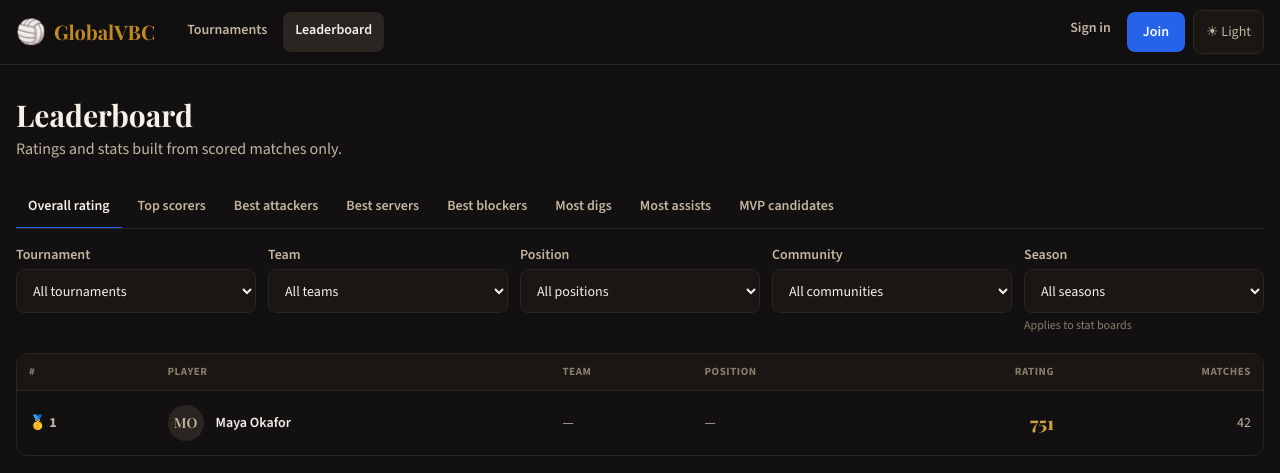
Test: Leaderboard › switches metric via tabs and shows secondary stat columns
Expected: the text "Maya Okafor" is shown, [216, 413, 291, 433]
Step 1. Click the tab "Best attackers" → x=276, y=207, box [222, 185, 330, 229]
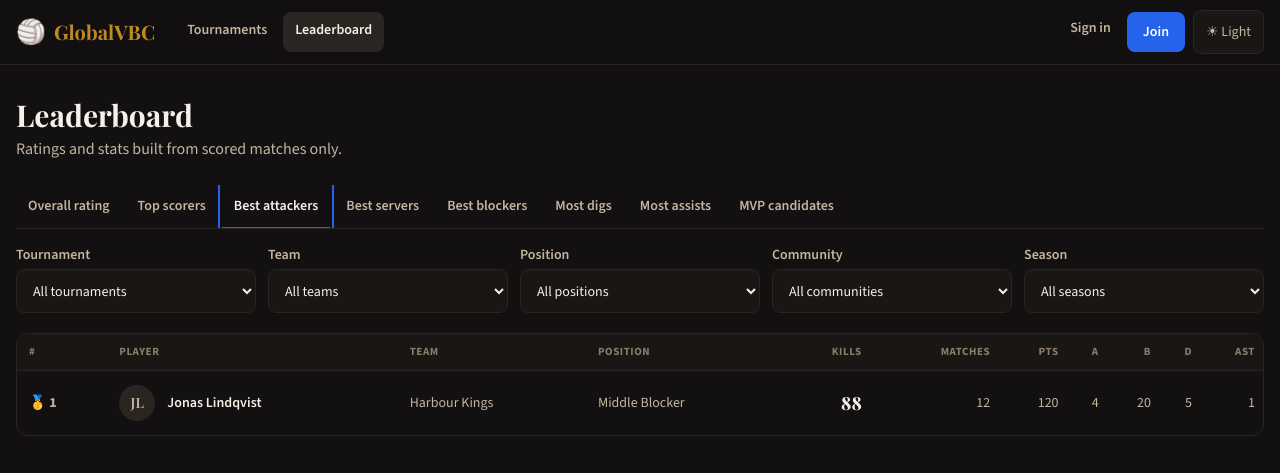
Expected: the text "Jonas Lindqvist" is shown, [167, 393, 262, 413]
Expected: the column heading "Kills" is shown, [779, 334, 874, 370]
Expected: the column heading "Pts" is shown, [1002, 334, 1067, 370]
